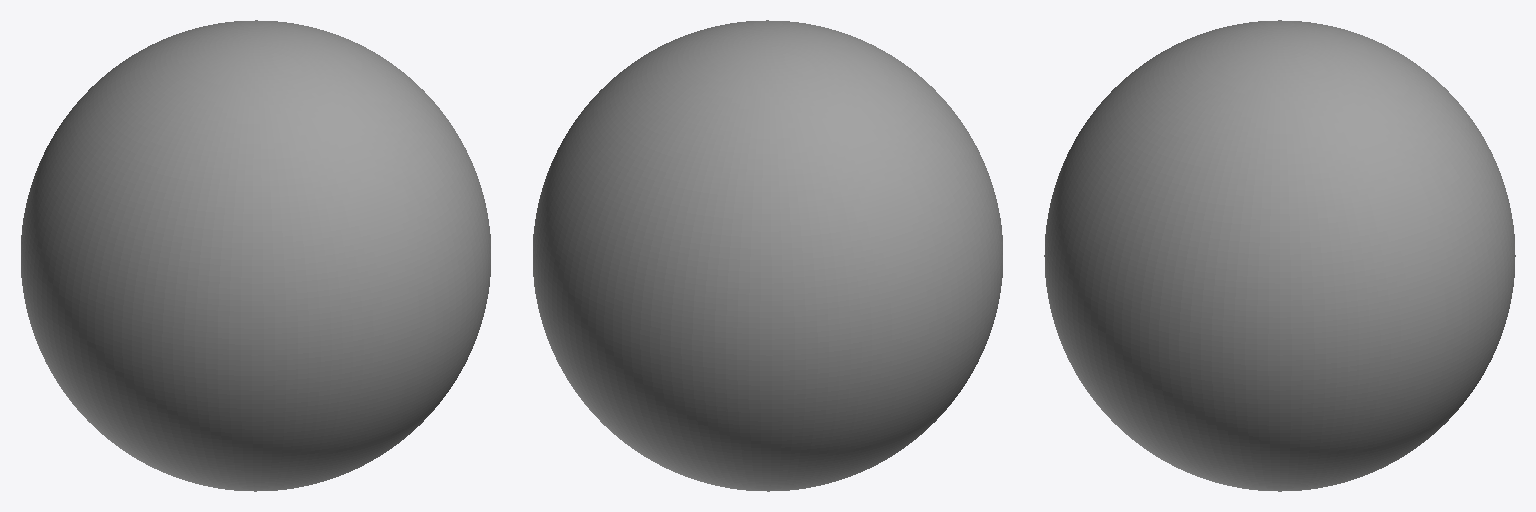
File: venus.obj
The picture shows the model from 3 angles: view 1: azimuth 30°, elevation 25°; view 2: azimuth 150°, elevation 25°; view 3: azimuth 270°, elevation 25°; orthographic projection.
Visible parts, largest first — view 1: Moon_Sphere.001; view 2: Moon_Sphere.001; view 3: Moon_Sphere.001.
Boxes of the visible parts, box(x1,y1,x2,y2) form: Moon_Sphere.001: box(21, 20, 490, 491); Moon_Sphere.001: box(533, 20, 1002, 491); Moon_Sphere.001: box(1044, 20, 1515, 491).
Bounding box in the file's own units: 2.87 × 2.87 × 2.87.